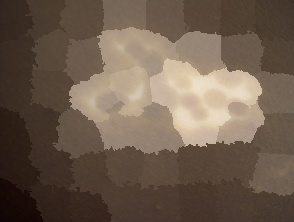vitiligo: (19, 0, 294, 207)
